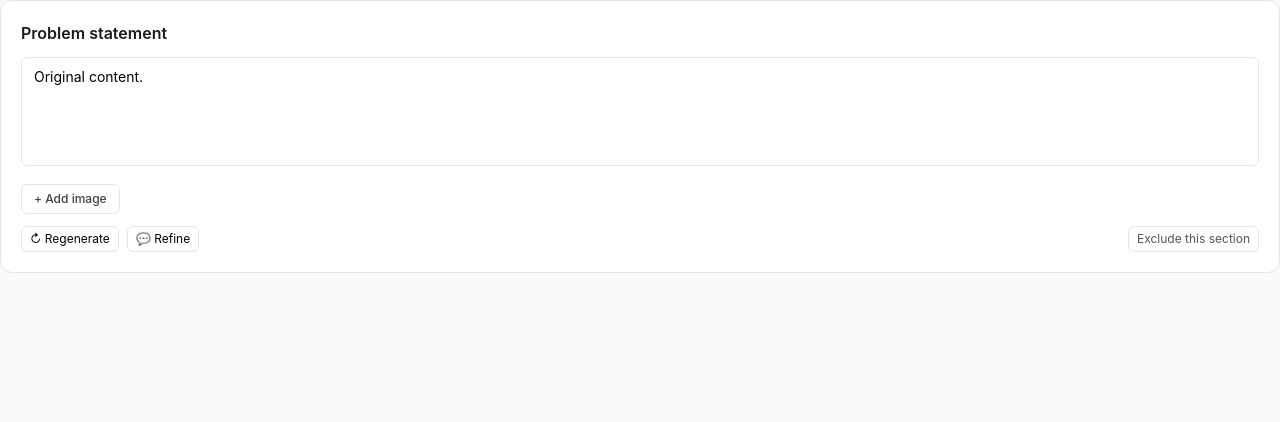
Test: SectionBlock › refine flow opens a prompt field, submits the instructions, and replaces content
This screenshot has width=1280, height=422.
Click the button "💬 Refine". click: (163, 239)
box: [127,226,199,252]
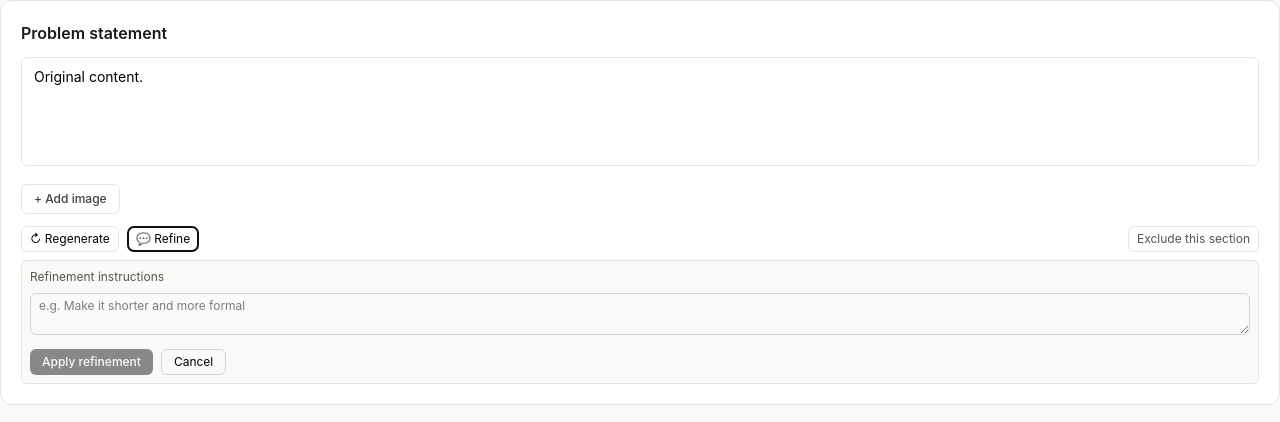
Type "Make it shorter" into the text box labelled "Refinement instructions". click: (640, 314)
box: [30,293,1250,335]
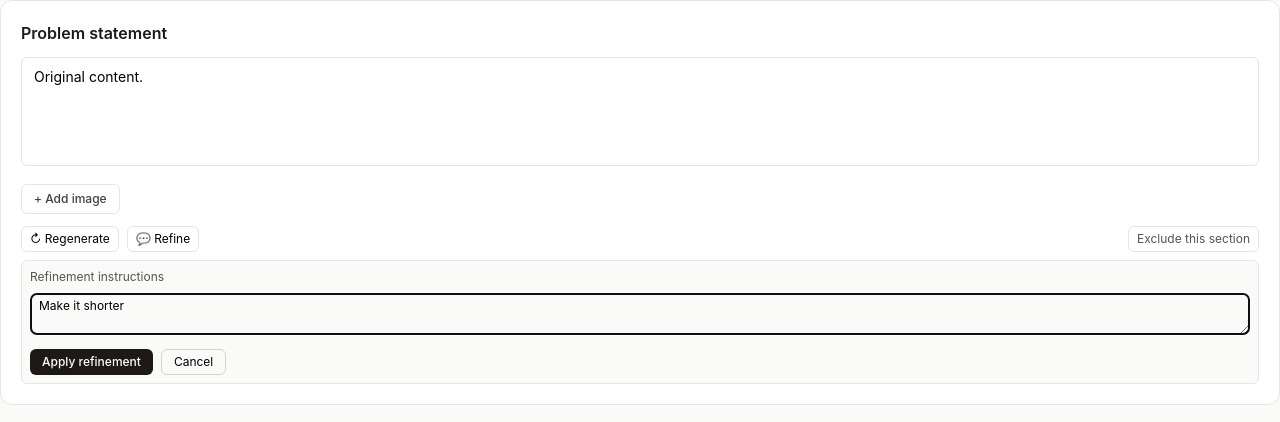
Click the button "Apply refinement". click: (91, 362)
box: [30,349,153,375]
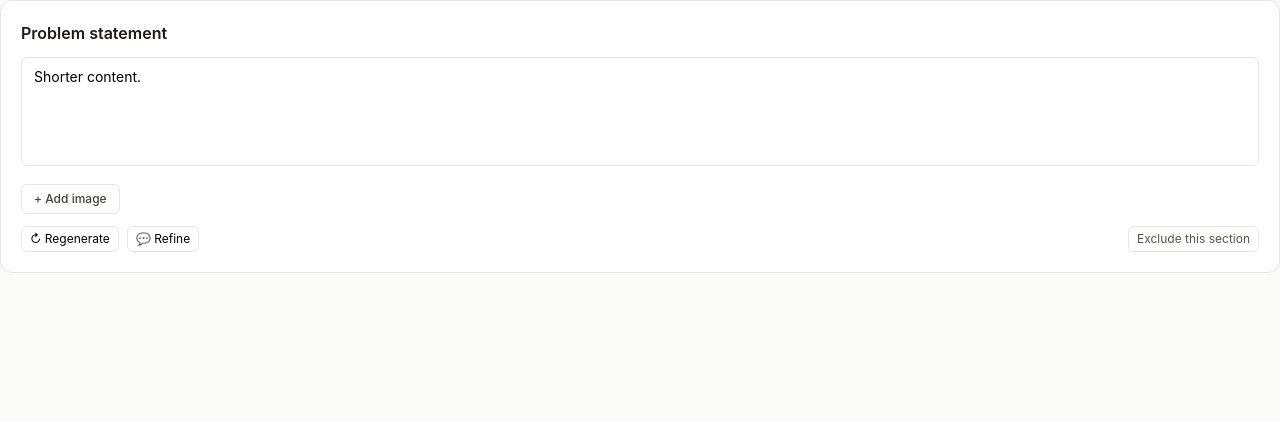
Expected: the text box showing "Shorter content." is shown, [21,57,1259,166]
